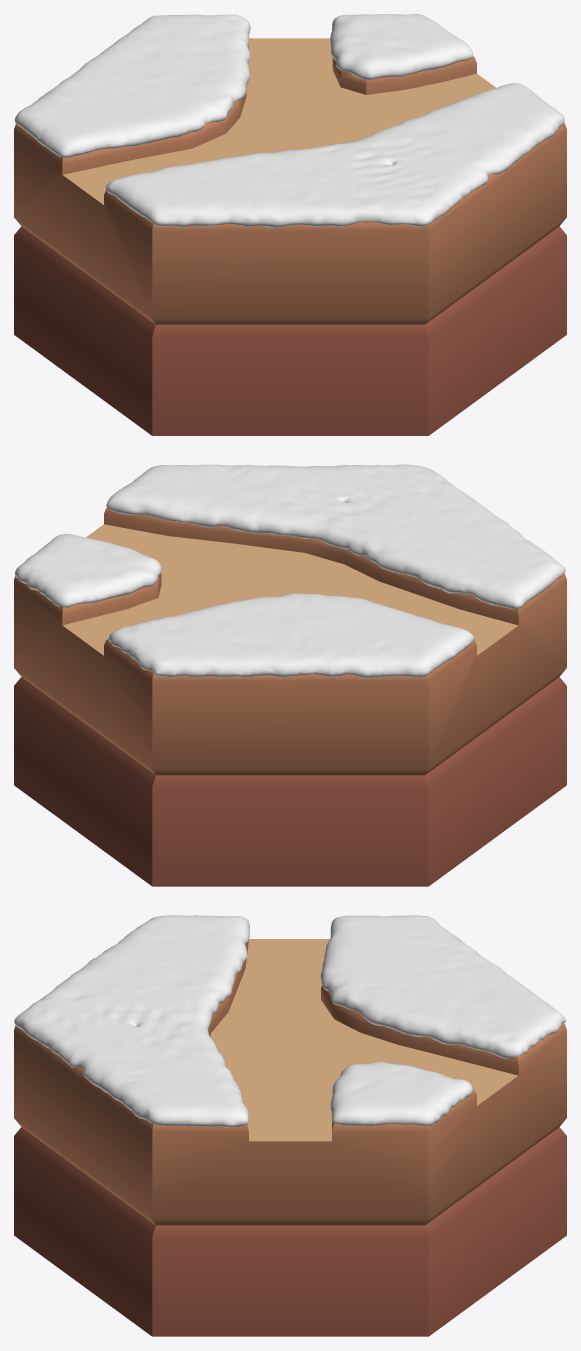
The model's file is hex_rock_roadF_detail.fbx.
3 renders of one model, top to bottom at view 1: azimuth 30°, elevation 25°; view 2: azimuth 150°, elevation 25°; view 3: azimuth 270°, elevation 25°, orthographic.
Parts seen in each view (by area): view 1: SnowBall.001, hex_rock_roadF_detail.001, hex_rock_roadF_detail.002, hex_rock_roadF_detail; view 2: SnowBall.001, hex_rock_roadF_detail.001, hex_rock_roadF_detail.002, hex_rock_roadF_detail; view 3: hex_rock_roadF_detail.001, SnowBall.001, hex_rock_roadF_detail.002, hex_rock_roadF_detail.
Part boxes in pixels (x1,y1,x2,y2): SnowBall.001: (14, 14, 564, 227); hex_rock_roadF_detail.001: (14, 226, 566, 435); hex_rock_roadF_detail.002: (14, 27, 566, 324); hex_rock_roadF_detail: (63, 38, 495, 204); SnowBall.001: (15, 464, 565, 678); hex_rock_roadF_detail.001: (14, 677, 566, 886); hex_rock_roadF_detail.002: (14, 507, 566, 775); hex_rock_roadF_detail: (62, 524, 518, 655); hex_rock_roadF_detail.001: (14, 1127, 566, 1336); SnowBall.001: (14, 915, 565, 1127); hex_rock_roadF_detail.002: (14, 940, 566, 1225); hex_rock_roadF_detail: (210, 939, 518, 1141).
Bounding box in the file's own units: 202 × 103 × 231.
